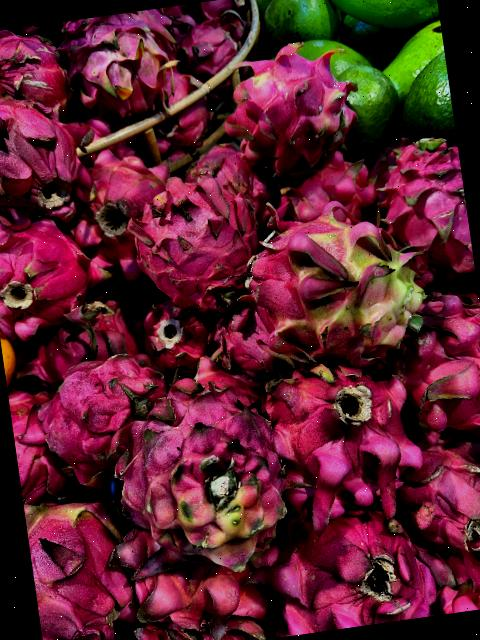buah-naga-belum-matang: (100, 368, 304, 578), (240, 194, 440, 374), (23, 486, 142, 640), (58, 7, 186, 122)
buah-naga-matang: (256, 344, 442, 530), (211, 36, 371, 180), (266, 510, 443, 637), (123, 174, 258, 310), (39, 346, 164, 476), (375, 130, 476, 288), (0, 197, 118, 332), (70, 146, 183, 274), (0, 70, 90, 219), (387, 435, 480, 569), (400, 284, 480, 433), (28, 298, 138, 376), (0, 21, 75, 131), (0, 24, 72, 131)
